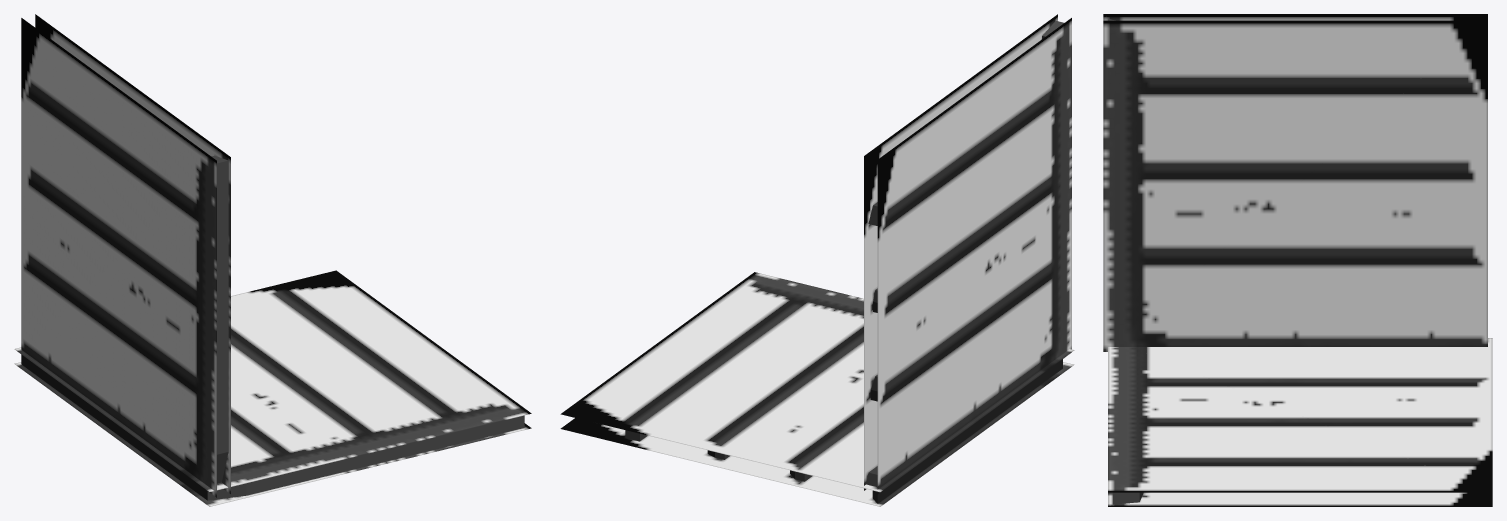
The model's file is pz_native_fixtures_railings_01_38_frame.obj.
The picture shows the model from 3 angles, left to right: view 1: azimuth 30°, elevation 25°; view 2: azimuth 150°, elevation 25°; view 3: azimuth 270°, elevation 25°; orthographic projection.
Parts seen in each view (by area): view 1: pz_native_fixtures_railings_01_38_frame; view 2: pz_native_fixtures_railings_01_38_frame; view 3: pz_native_fixtures_railings_01_38_frame.
Part boxes in pixels (x1=…): pz_native_fixtures_railings_01_38_frame: x1=14, y1=14, x2=531, y2=506; pz_native_fixtures_railings_01_38_frame: x1=560, y1=14, x2=1074, y2=506; pz_native_fixtures_railings_01_38_frame: x1=1103, y1=14, x2=1492, y2=506.
Bounding box in the file's own units: 1.03 × 1.06 × 1.1.
1 material, 1 textured.
